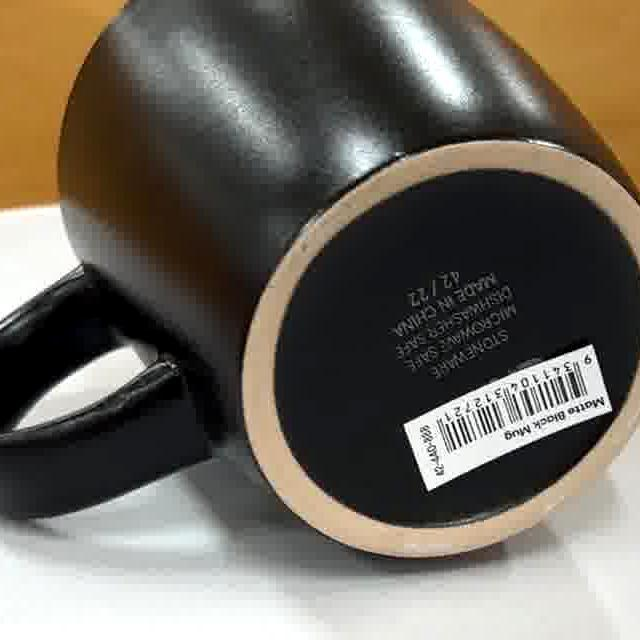cup: (0, 0, 640, 578)
